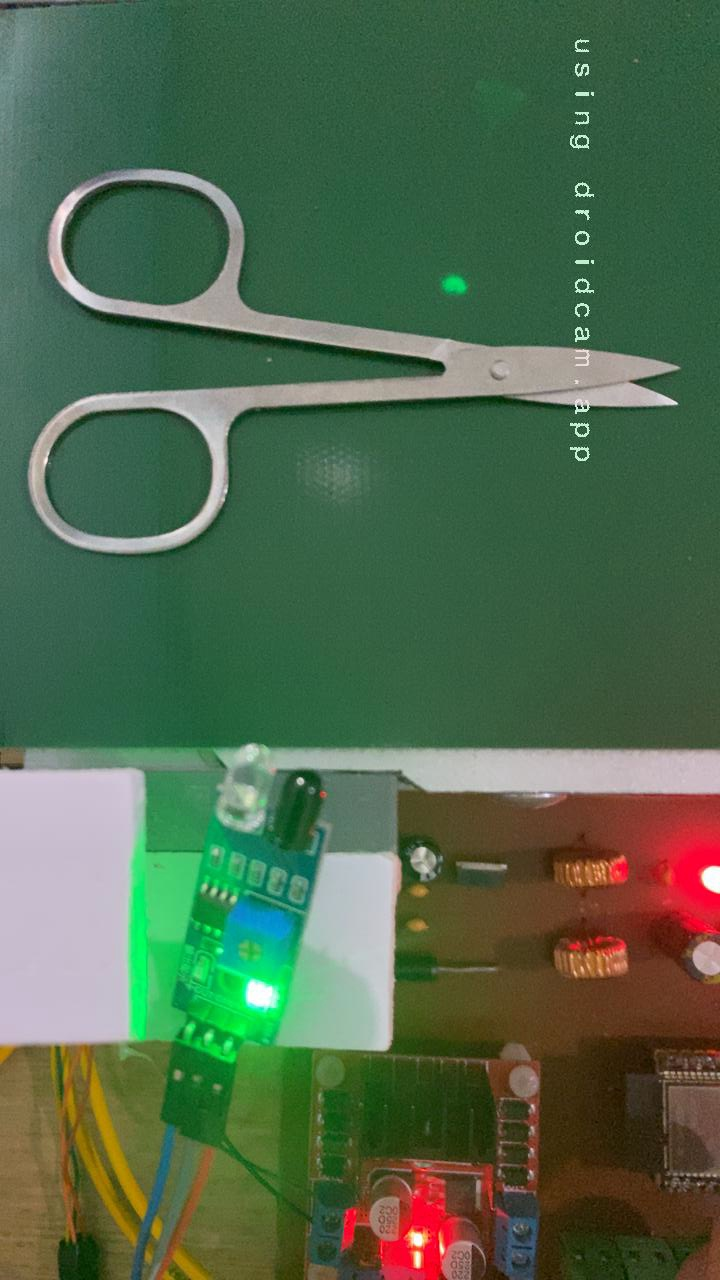scissor: (21, 162, 686, 563)
